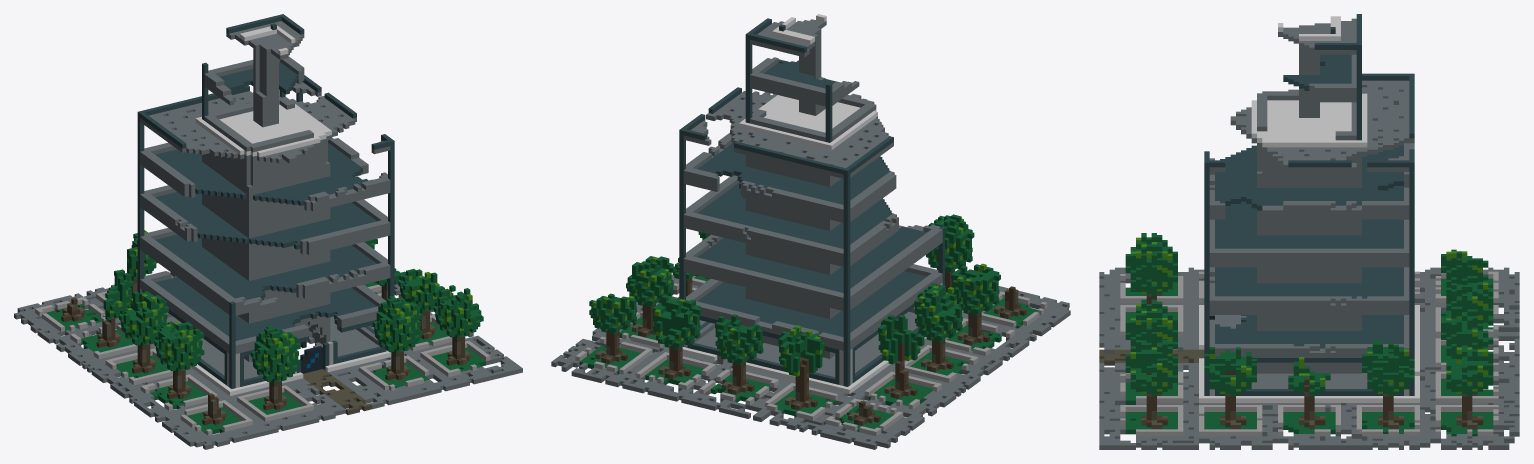
Rendered from building_big_2_destroyed.obj.
3 renders of one model, left to right at view 1: azimuth 30°, elevation 25°; view 2: azimuth 150°, elevation 25°; view 3: azimuth 270°, elevation 25°, orthographic. The views are drawn at different scales.
Bounding box in the file's own units: 8 × 7.2 × 8.
1 material, 1 textured.
